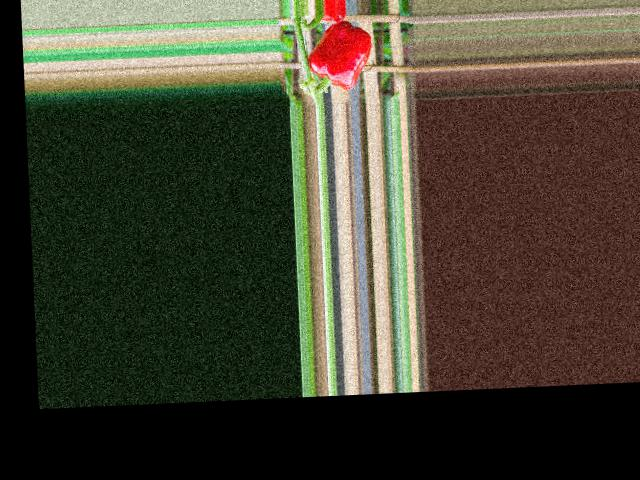bell_pepper: (301, 20, 378, 91)
